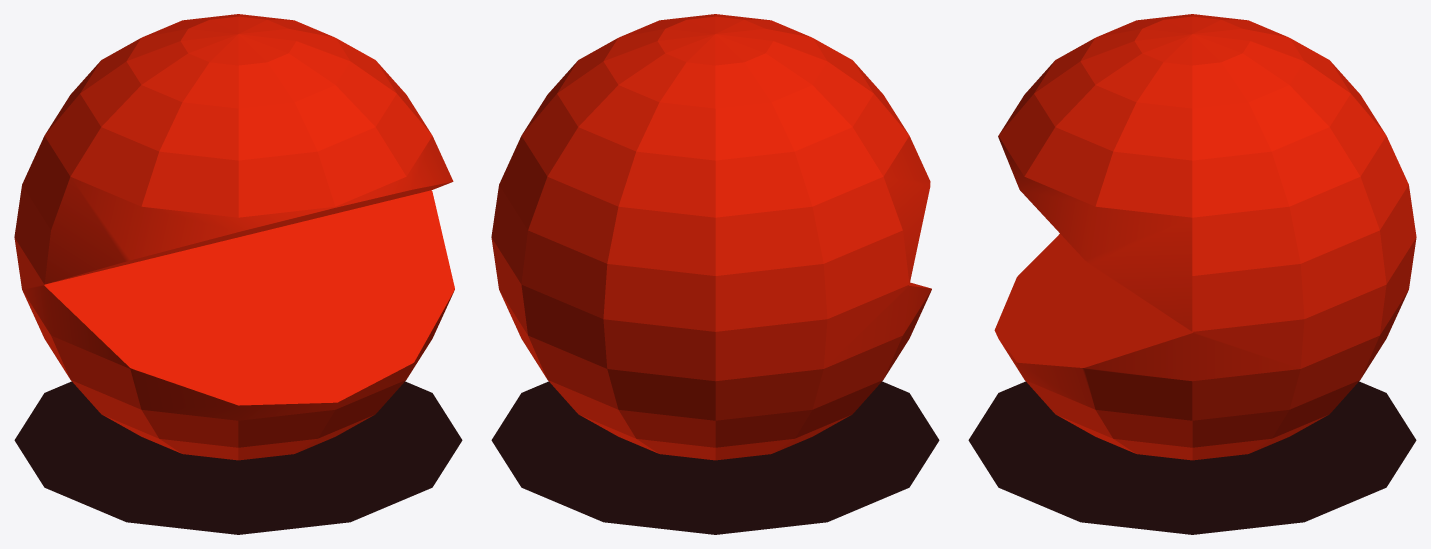
File: Enemy.fbx
3 views of the same model, side by side, from view 1: azimuth 30°, elevation 25°; view 2: azimuth 150°, elevation 25°; view 3: azimuth 270°, elevation 25° (orthographic).
Parts seen in each view (by area): view 1: pSphere2, pCylinder1; view 2: pSphere2, pCylinder1; view 3: pSphere2, pCylinder1.
Part boxes in pixels (box(x1,y1,x2,y2)): pSphere2: box(14, 14, 454, 460); pCylinder1: box(14, 381, 462, 534); pSphere2: box(491, 14, 931, 460); pCylinder1: box(491, 381, 939, 534); pSphere2: box(994, 14, 1416, 460); pCylinder1: box(968, 381, 1416, 534).
Size of the model in its own units: 0.6 by 0.6 by 0.6.
